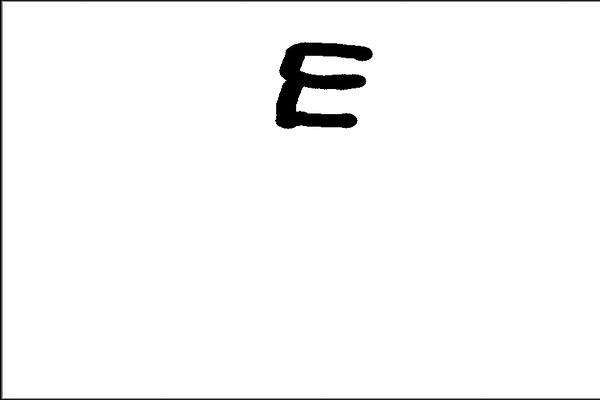E: (268, 37, 377, 132)
